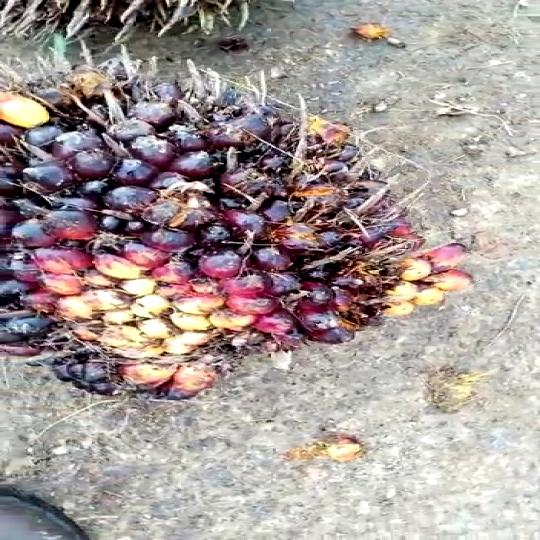masak: (0, 39, 489, 399)
